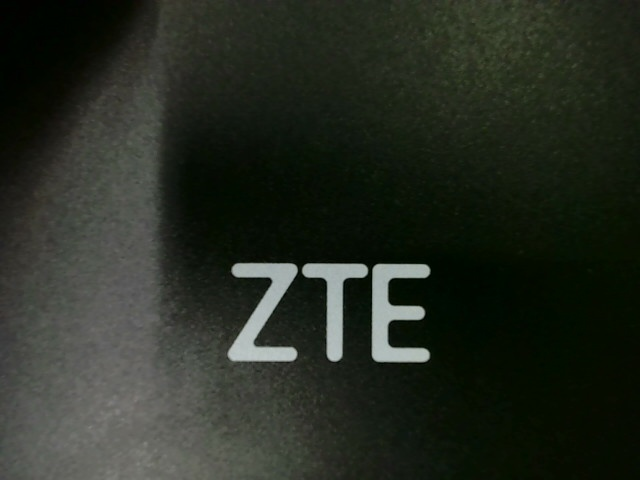AN_ZTE: (215, 258, 440, 365)
